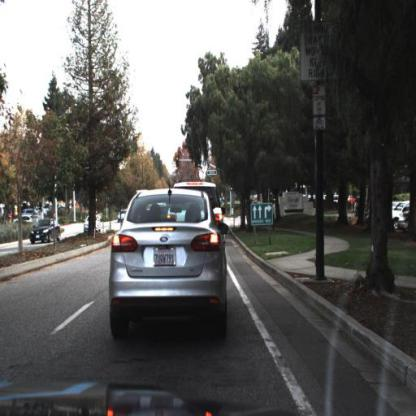car: (109, 187, 229, 344), (31, 217, 61, 243), (389, 199, 408, 230), (209, 182, 222, 225), (85, 214, 99, 233)
trafficLight: (176, 157, 181, 168)
